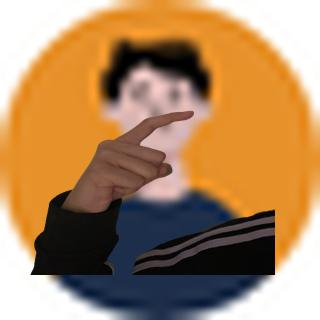WHY: (60, 103, 201, 215)
